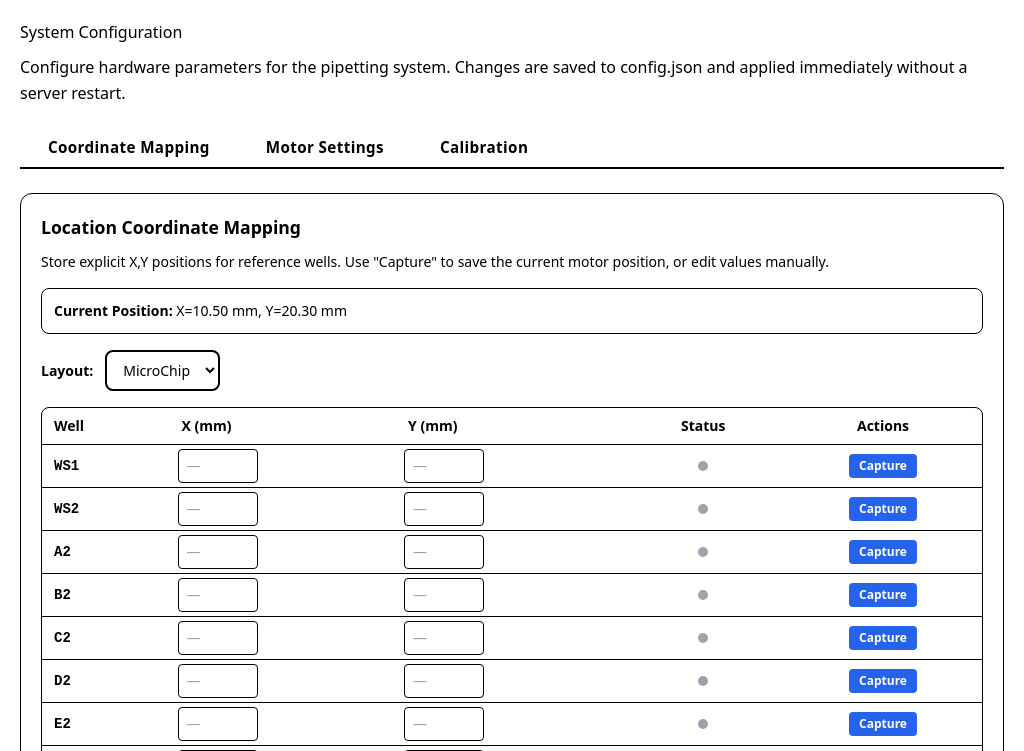
Test: Settings sub-tab navigation › clicking Coordinate Mapping tab after switching away returns to layout
Click the button "Calibration" at (484, 147), box x1=412 y1=126 x2=556 y2=169
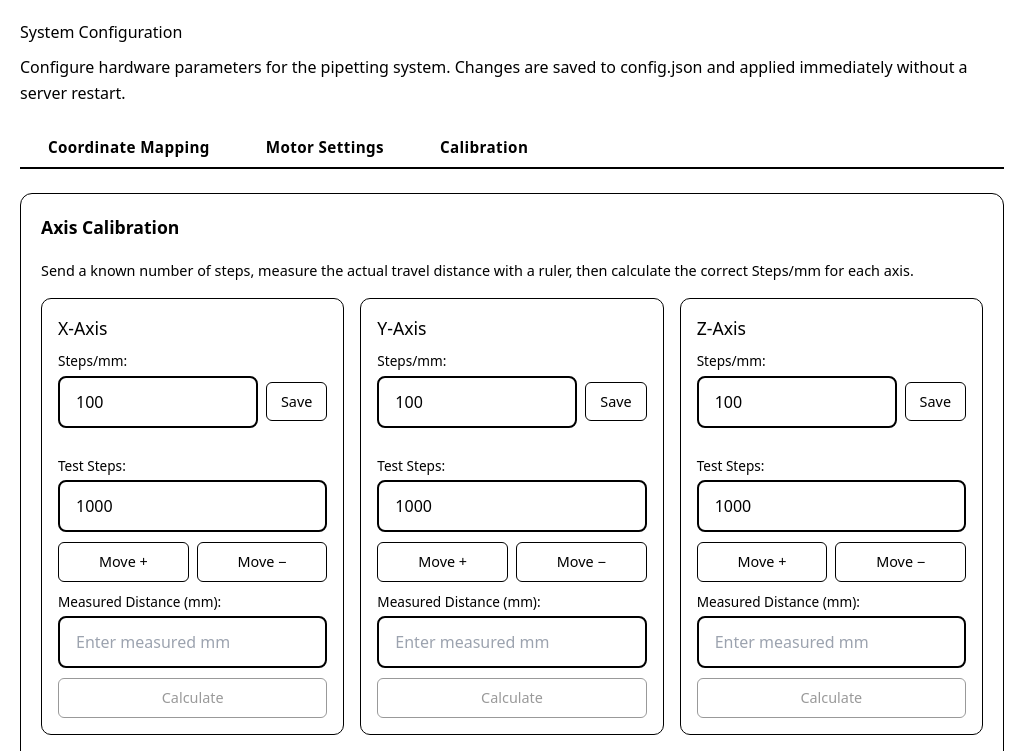
Check: the heading "Axis Calibration" is shown, box x1=41 y1=215 x2=179 y2=239
Click the button "Coordinate Mapping" at (129, 147), box x1=20 y1=126 x2=238 y2=169
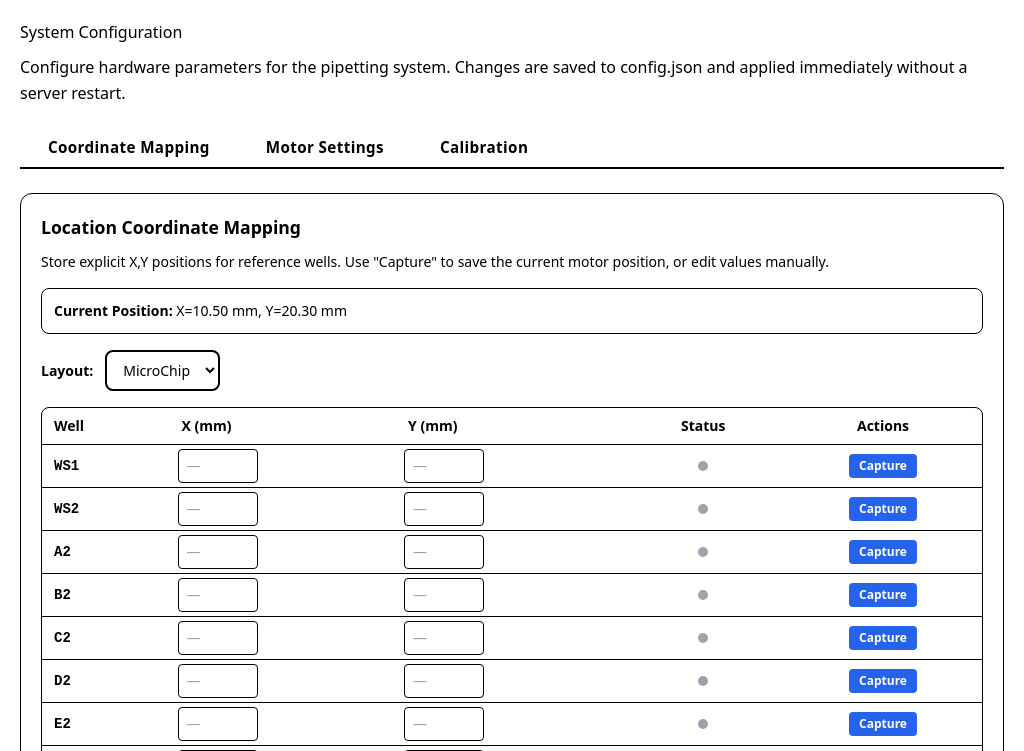
Check: the heading "Location Coordinate Mapping" is shown, box x1=41 y1=215 x2=301 y2=239
